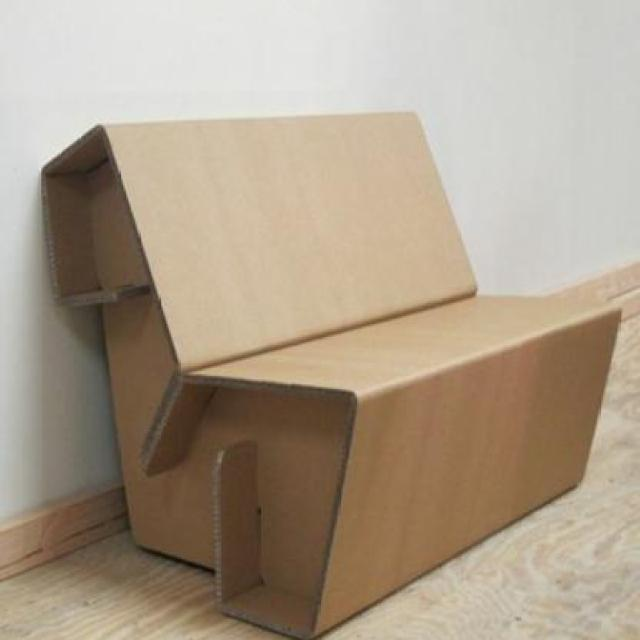box: (37, 99, 631, 640)
